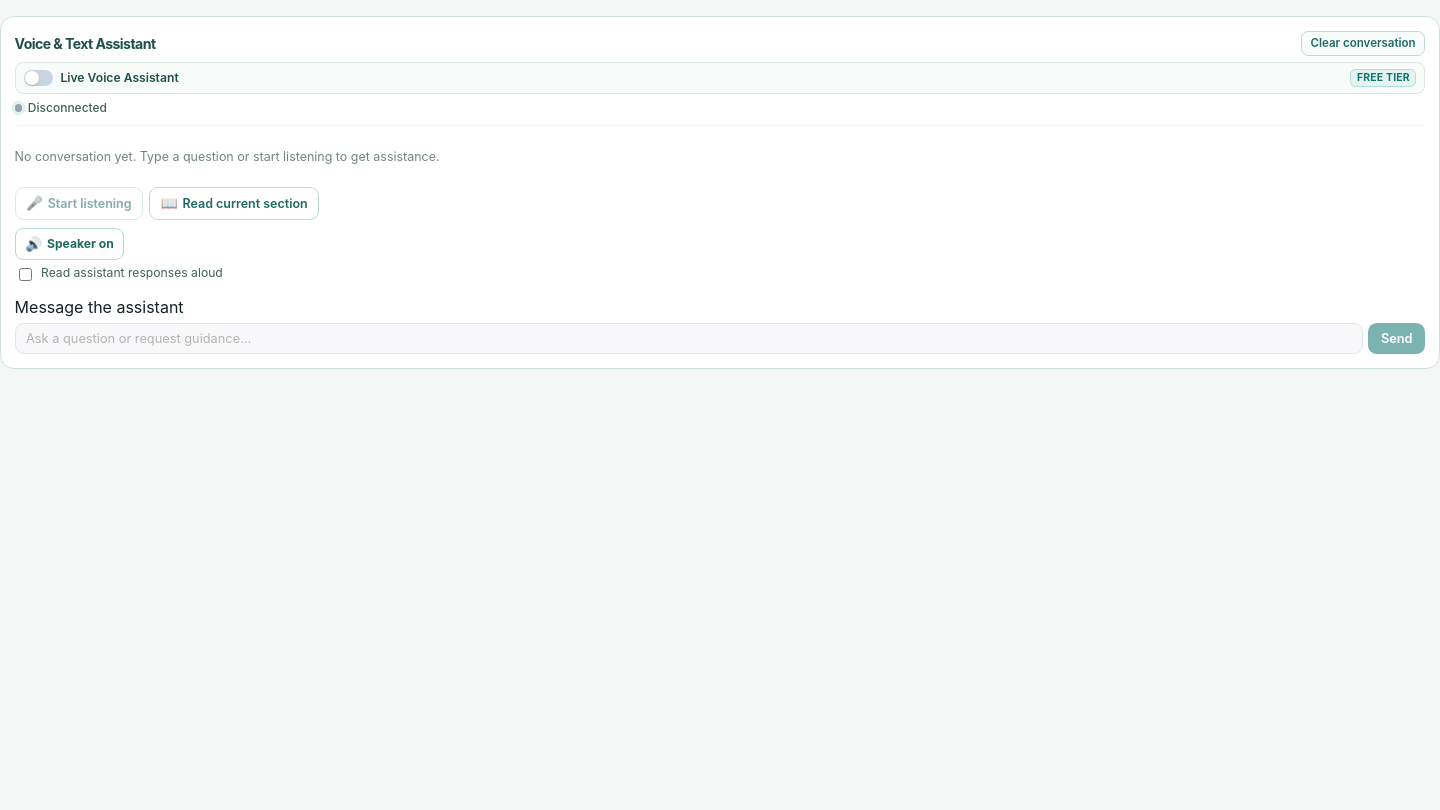
Phase 8 companion PIN prompt › keeps the dialog open with connection guidance when connect rejects
This screenshot has width=1440, height=810.
Click the switch labelled "Live Voice Assistant". click: (101, 78)
box: [24, 70, 179, 86]
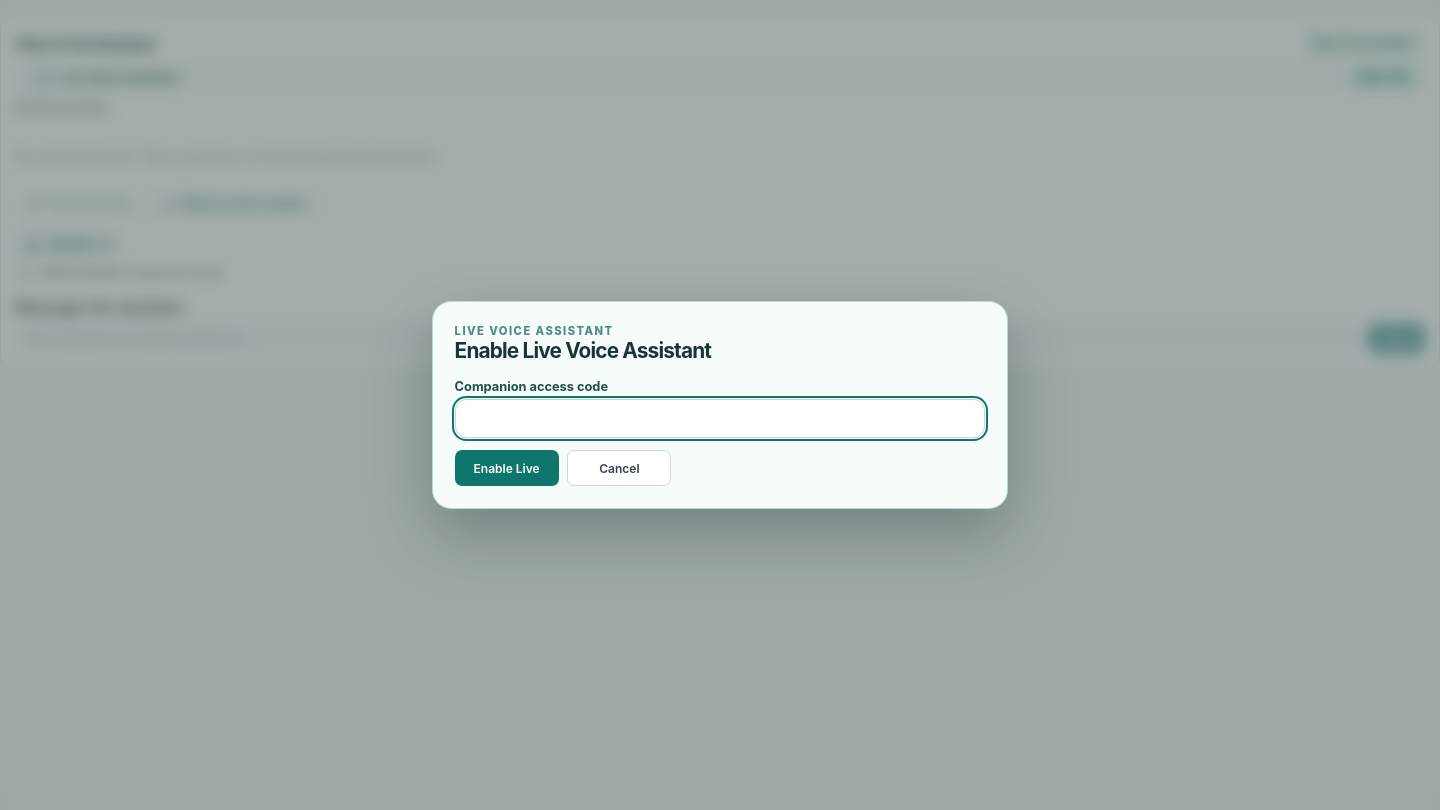
Type "placeholder-access-pin" into the password field labelled "Companion access code". click: (720, 419)
box: [455, 399, 985, 438]
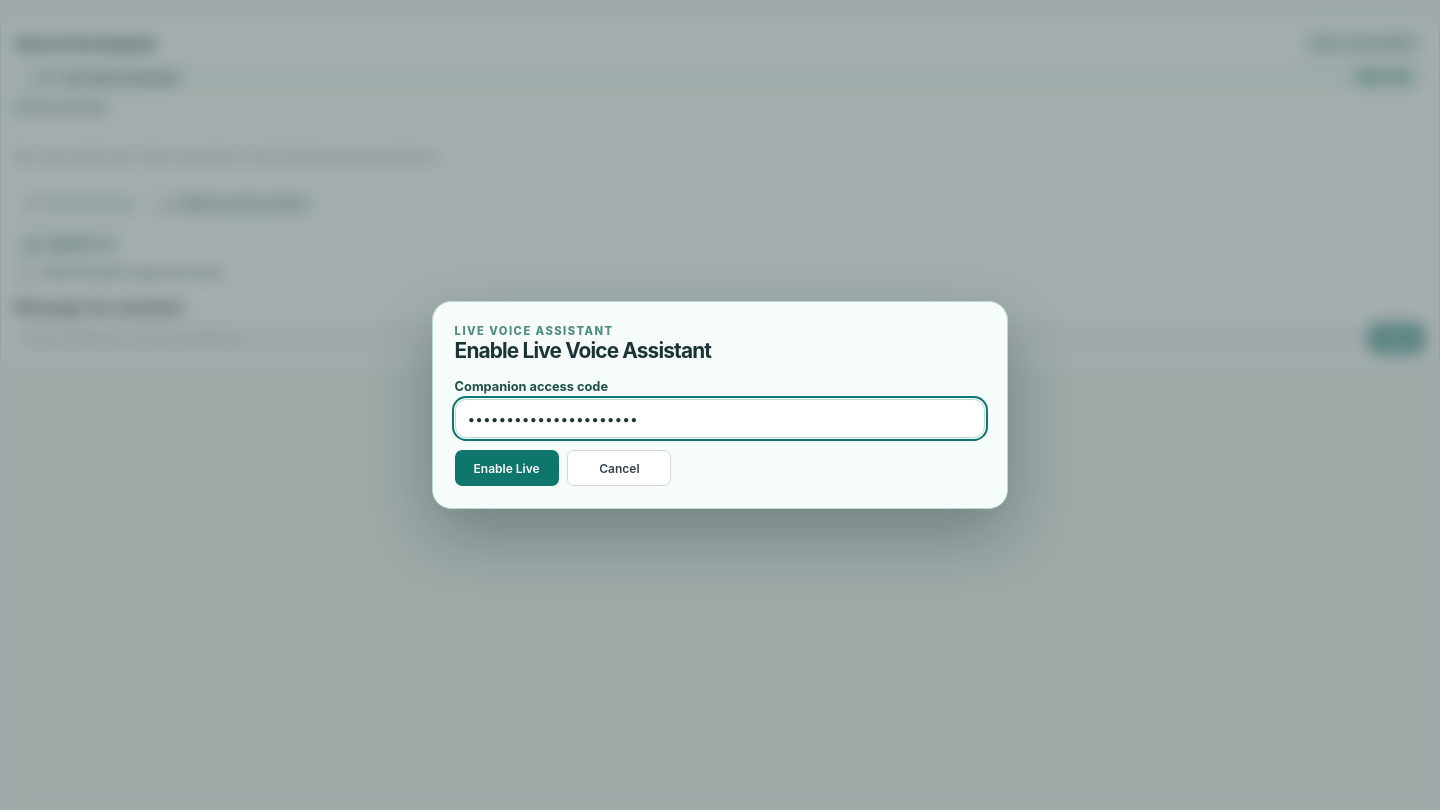
Click the button "Enable Live". click: (507, 468)
box: [455, 450, 559, 486]
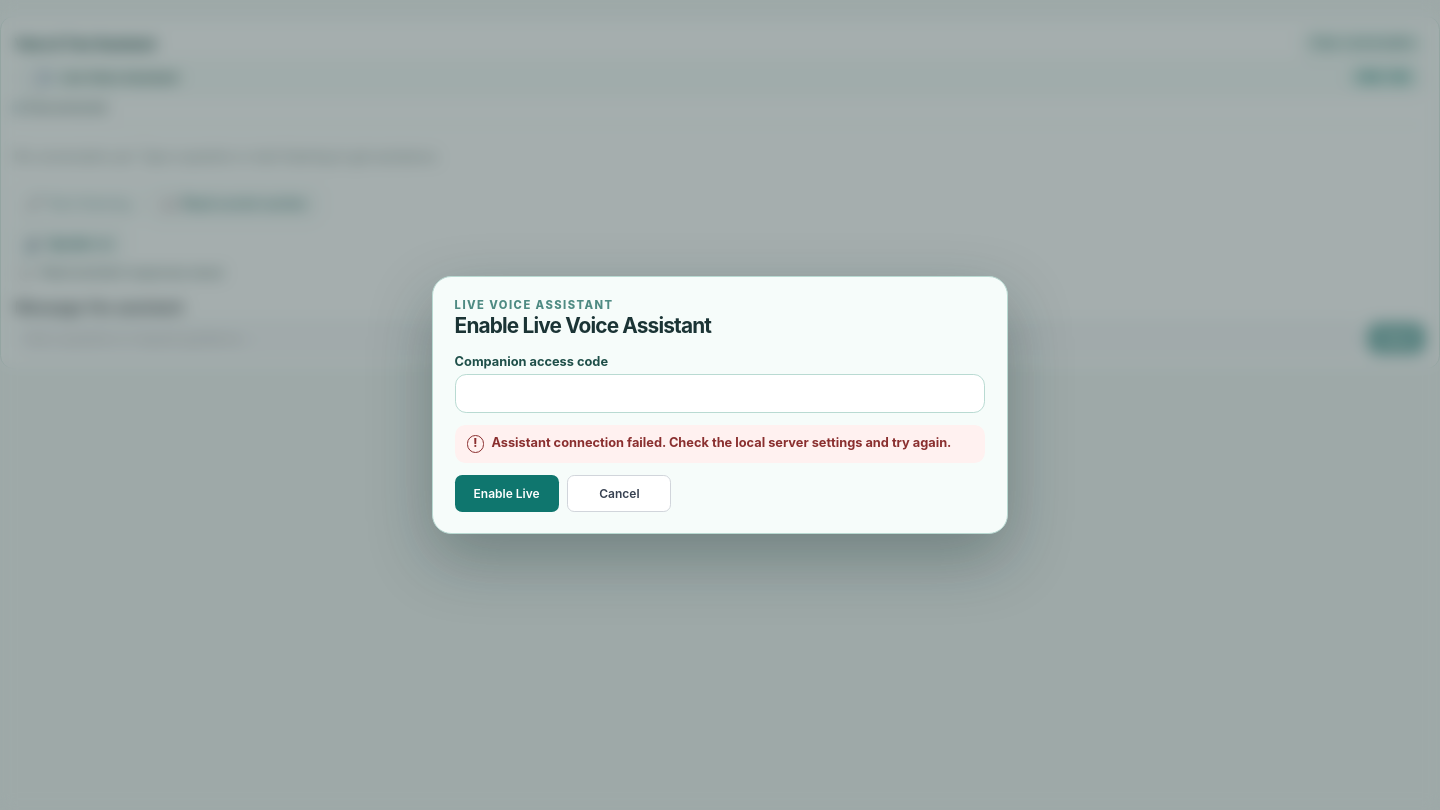
Check: the dialog "Enable Live Voice Assistant" is shown, box [432, 276, 1008, 534]
Check: the password field labelled "Companion access code" is enabled, box [455, 374, 985, 413]
Check: the text "Assistant connection failed. Check the local server settings and try again" is shown, box [491, 435, 951, 450]
